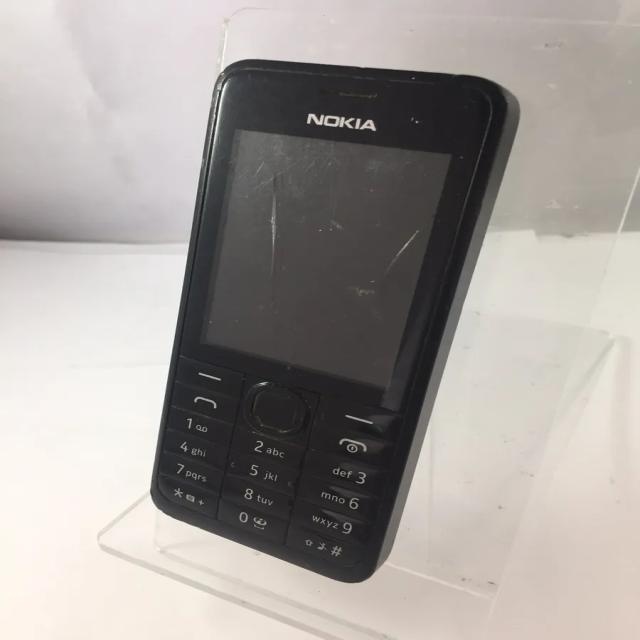mobile phone: (148, 57, 520, 584)
